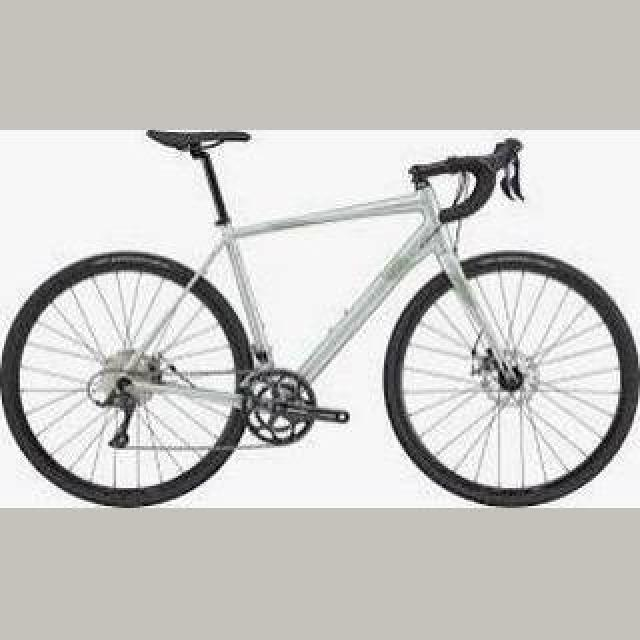Person: (0, 130, 640, 508)
